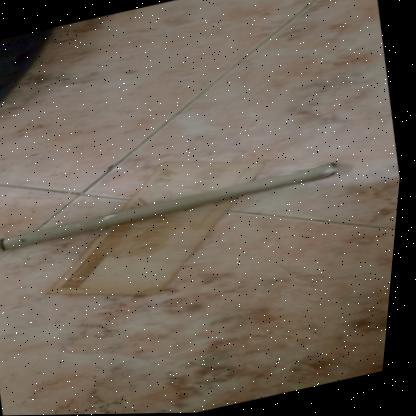five-back-vef: (28, 139, 291, 317)
